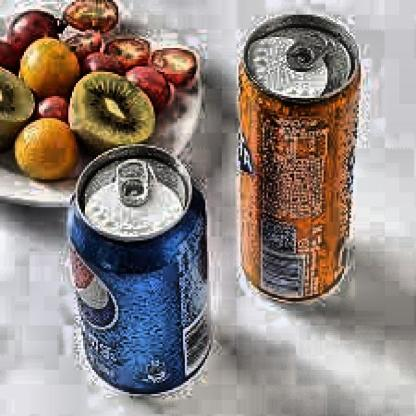Can: (54, 138, 222, 404), (235, 7, 365, 317)
